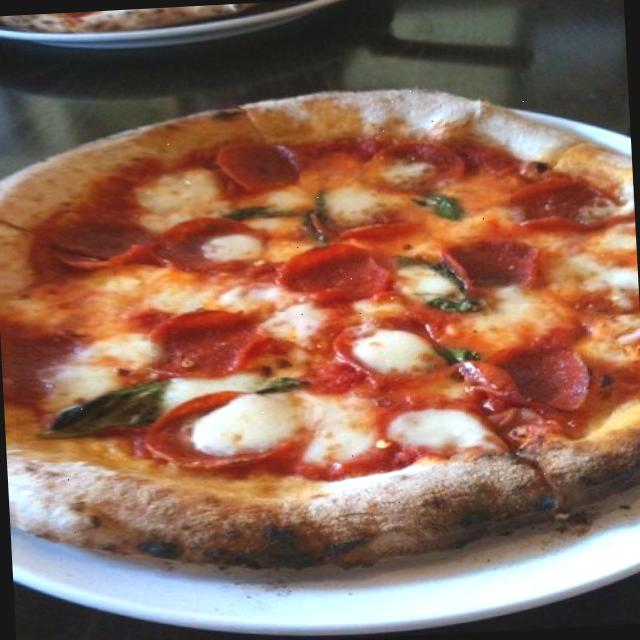basil: (13, 372, 182, 442)
pepperoni: (25, 203, 262, 295), (127, 382, 282, 484), (251, 235, 396, 322), (148, 292, 279, 388), (478, 327, 593, 410), (375, 120, 464, 202), (203, 128, 309, 196), (510, 162, 604, 234), (441, 232, 551, 282)
pizza: (0, 90, 640, 566)
